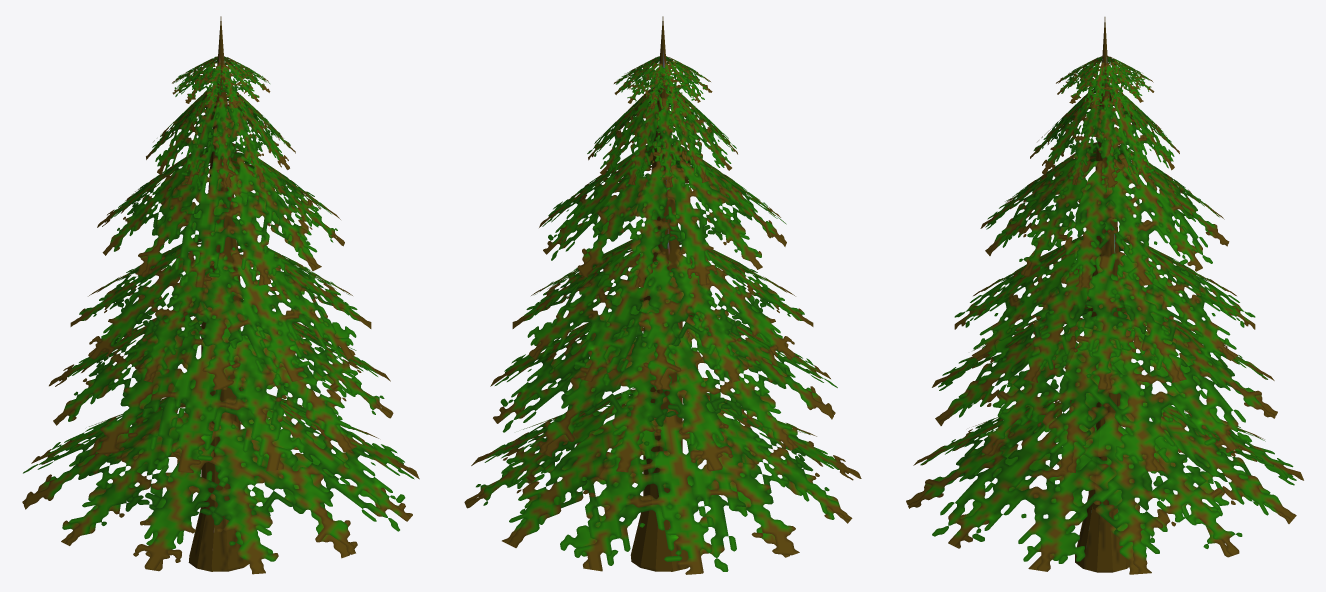
Rendered from pine_tree.fbx.
The picture shows the model from 3 angles, left to right: view 1: azimuth 30°, elevation 25°; view 2: azimuth 150°, elevation 25°; view 3: azimuth 270°, elevation 25°; orthographic projection.
Visible parts, largest first — view 1: circle, circle_2, circle_6, circle_4, circle_1, circle_3, circle_10, circle_7, circle_5, cone, circle_8, circle_11 (+3 smaller); view 2: circle, circle_2, circle_6, circle_4, circle_1, circle_10, circle_3, circle_7, circle_5, circle_8, cone, circle_11 (+3 smaller); view 3: circle, circle_2, circle_6, circle_4, circle_1, circle_3, circle_7, circle_10, circle_5, circle_8, cone, circle_11 (+3 smaller).
Boxes of the visible parts, box(x1,y1,x2,y2) form: circle: box(23, 387, 417, 574); circle_2: box(49, 298, 392, 472); circle_6: box(70, 237, 371, 389); circle_4: box(98, 143, 344, 287); circle_1: box(22, 395, 419, 571); circle_3: box(50, 299, 393, 469); circle_10: box(146, 86, 295, 187); circle_7: box(84, 237, 371, 389); circle_5: box(97, 143, 343, 287); cone: box(188, 507, 249, 571); circle_8: box(172, 56, 269, 108); circle_11: box(146, 88, 295, 187); circle: box(465, 388, 861, 574); circle_2: box(492, 298, 837, 472); circle_6: box(512, 240, 813, 389); circle_4: box(539, 145, 786, 287); circle_1: box(464, 388, 859, 569); circle_10: box(587, 87, 737, 187); circle_3: box(490, 312, 835, 471); circle_7: box(512, 240, 813, 389); circle_5: box(540, 144, 786, 287); circle_8: box(614, 56, 711, 108); cone: box(630, 510, 688, 571); circle_11: box(593, 89, 737, 187); circle: box(908, 400, 1302, 573); circle_2: box(933, 299, 1275, 472); circle_6: box(954, 236, 1255, 389); circle_4: box(980, 142, 1229, 287); circle_1: box(906, 400, 1303, 574); circle_3: box(932, 308, 1277, 472); circle_7: box(965, 239, 1255, 389); circle_10: box(1030, 88, 1179, 187); circle_5: box(982, 146, 1227, 287); circle_8: box(1056, 56, 1153, 108); cone: box(1075, 495, 1129, 572); circle_11: box(1036, 90, 1179, 187).
Size of the model in its own units: 103 by 150 by 103.
Materials: 1 (1 with a texture image).
